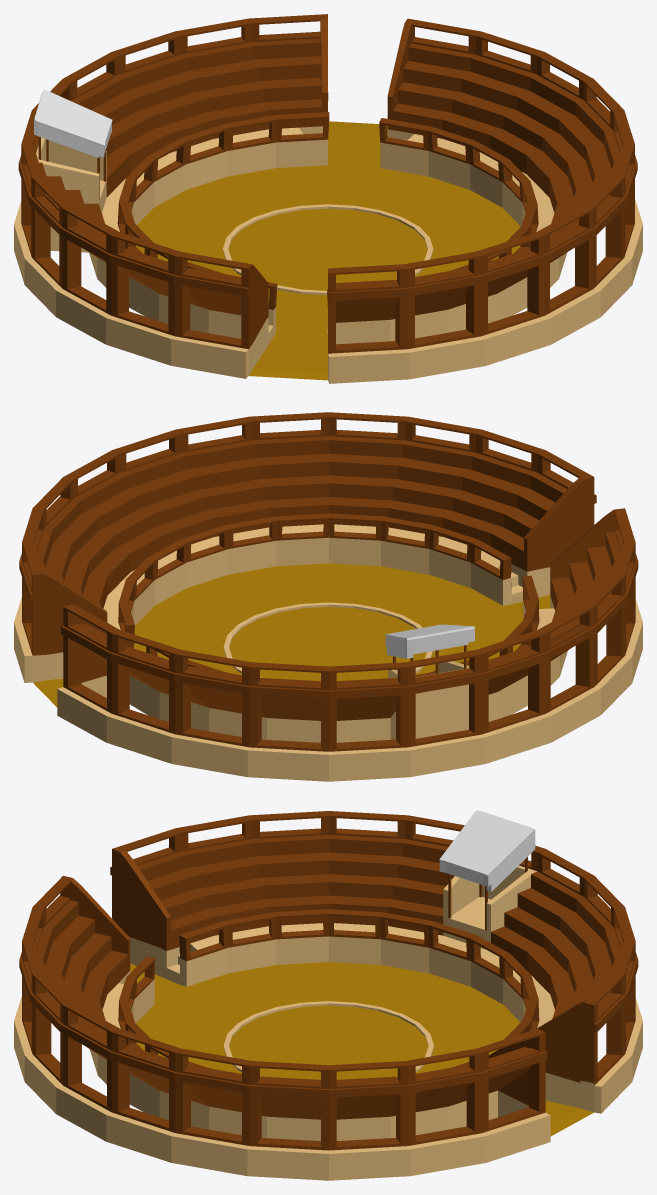
Rendered from Holzarena.fbx.
3 renders of one model, top to bottom at view 1: azimuth 30°, elevation 25°; view 2: azimuth 150°, elevation 25°; view 3: azimuth 270°, elevation 25°, orthographic.
Visible parts, largest first — view 1: Holzarena; view 2: Holzarena; view 3: Holzarena.
Boxes of the visible parts, x1,y1,x2,y2 form: Holzarena: [14, 14, 642, 383]; Holzarena: [14, 412, 642, 781]; Holzarena: [14, 810, 642, 1180].
Size of the model in its own units: 1596 by 370 by 1596.
